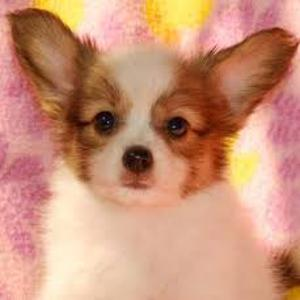yell: (6, 8, 300, 300)
